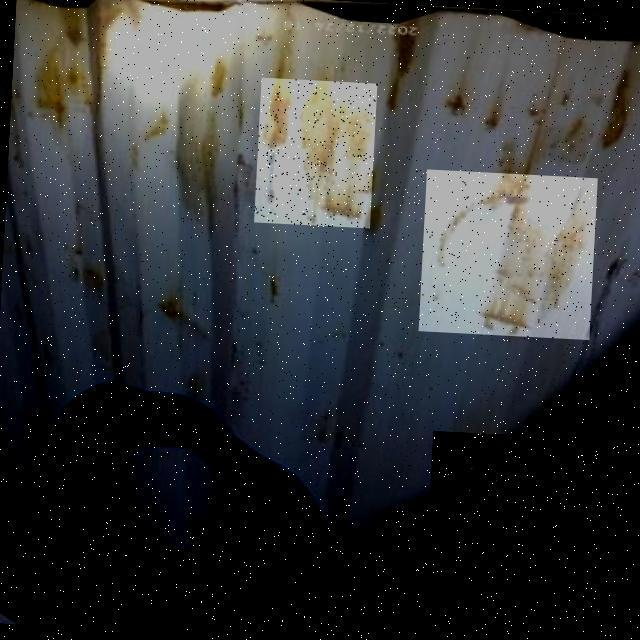Rust: (419, 170, 598, 341), (254, 78, 377, 229), (430, 429, 508, 497)
